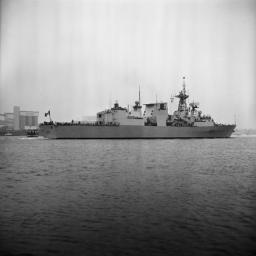Fragata: (36, 74, 239, 141)
